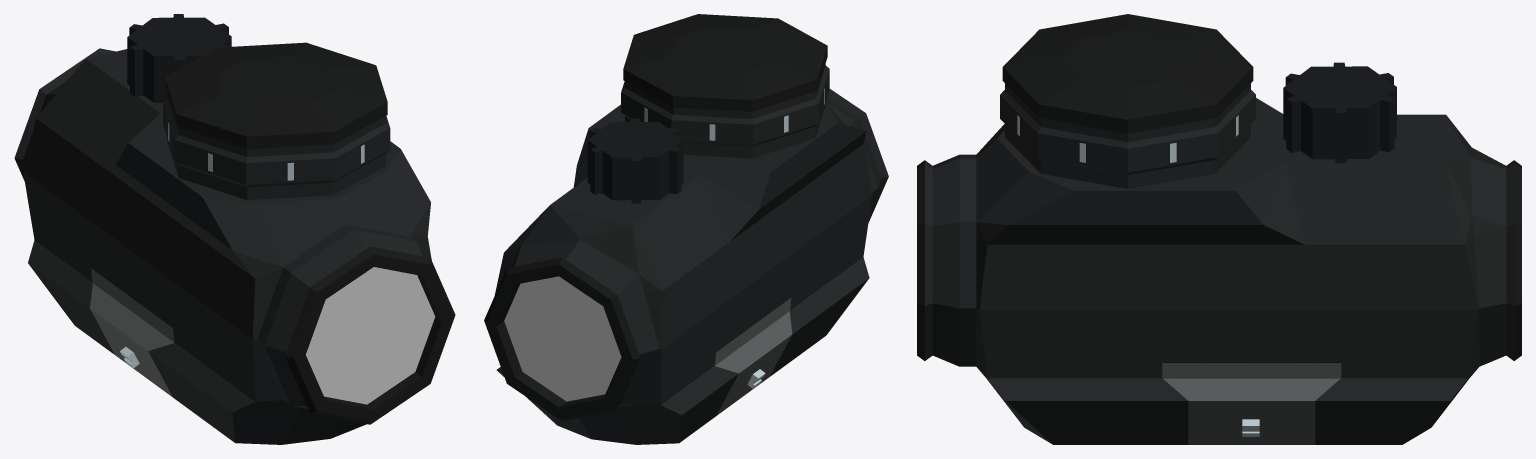
Rendered from Scope_b.fbx.
3 views of the same model, side by side, from view 1: azimuth 30°, elevation 25°; view 2: azimuth 150°, elevation 25°; view 3: azimuth 270°, elevation 25° (orthographic). The views are drawn at different scales.
Parts seen in each view (by area): view 1: Scope_b, glass.002; view 2: Scope_b, glass.001; view 3: Scope_b.
Part boxes in pixels (left/top/right/bottom): Scope_b: left=14, top=14, right=455, bottom=444; glass.002: left=306, top=267, right=435, bottom=404; Scope_b: left=484, top=14, right=888, bottom=444; glass.001: left=504, top=276, right=621, bottom=401; Scope_b: left=917, top=14, right=1521, bottom=444.
Bounding box in the file's own units: 2.97 × 4.42 × 7.01.
